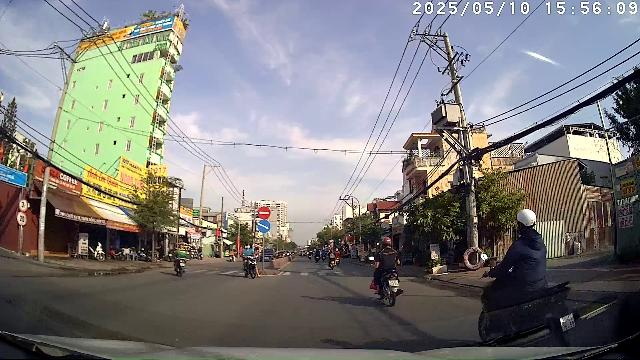102-cam-di-nguoc-chieu: (257, 206, 271, 220)
302a-huong-phai-di-vong-chuong-ngai-vat-1: (257, 220, 271, 233)
